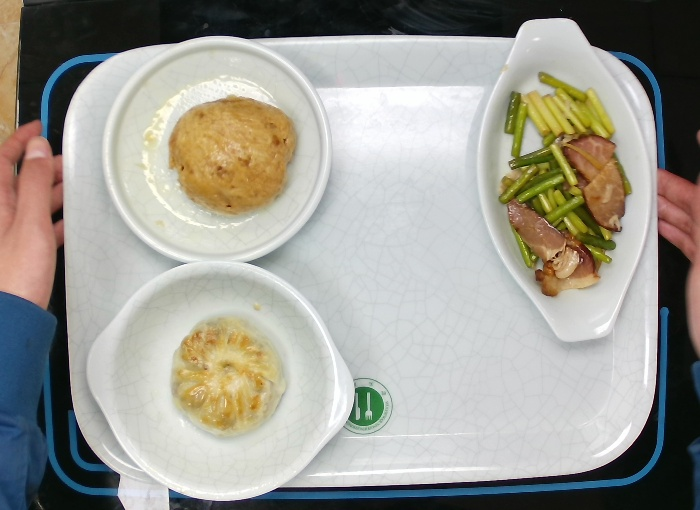JYsf-Shuang_Er_Wan: (78, 255, 361, 506)
JYsf-Xiao_Yuan_Pan: (99, 34, 337, 268)
JYsf-Yu_Pan: (473, 15, 657, 347)
